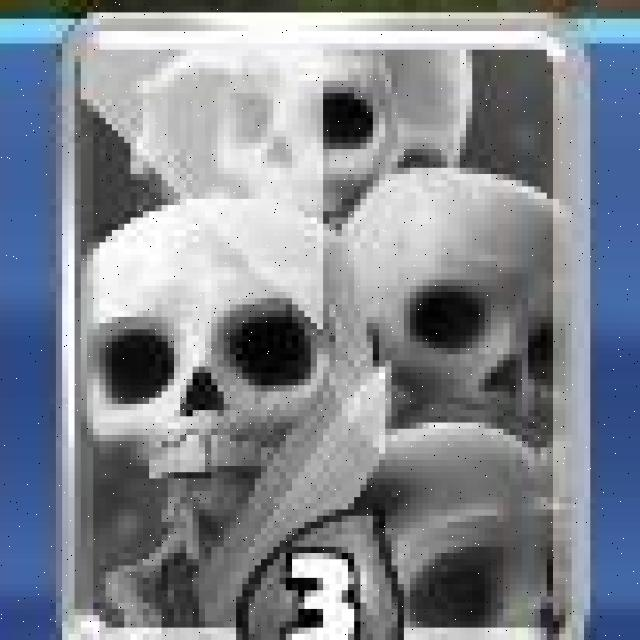Skeleton_Army: (64, 18, 586, 640)
